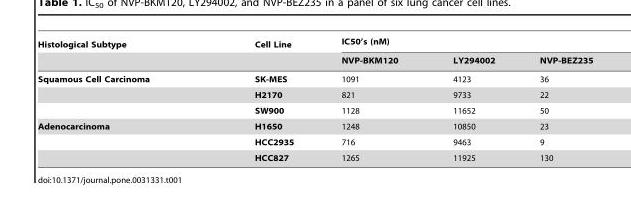table: (37, 36, 592, 162)
table column: (37, 36, 201, 162), (201, 36, 316, 162), (316, 36, 424, 162), (424, 36, 516, 162), (516, 36, 592, 162)
table column header: (37, 36, 592, 69)
table row: (37, 52, 592, 69), (37, 69, 592, 86), (37, 36, 592, 52), (37, 86, 592, 102), (37, 102, 592, 118), (37, 118, 592, 134), (37, 134, 592, 149), (37, 149, 592, 162)
table spanning cell: (37, 69, 201, 118), (37, 118, 201, 162), (37, 36, 201, 69), (316, 36, 592, 52), (201, 36, 316, 69)
